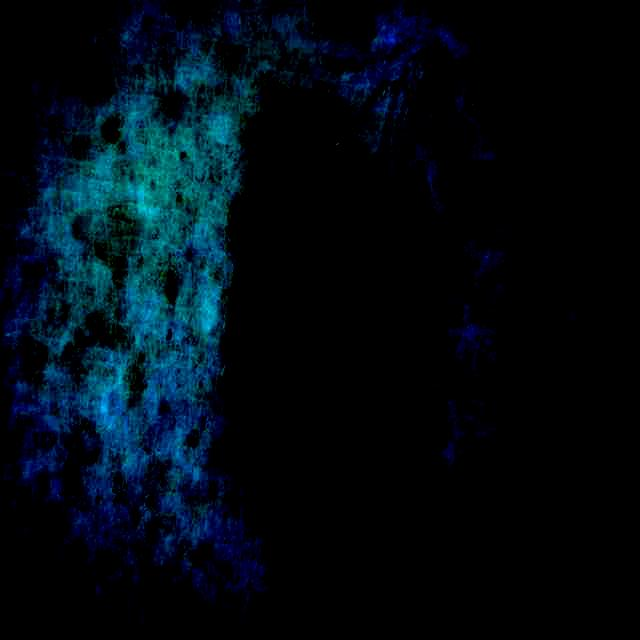BKL: (227, 100, 445, 560)
